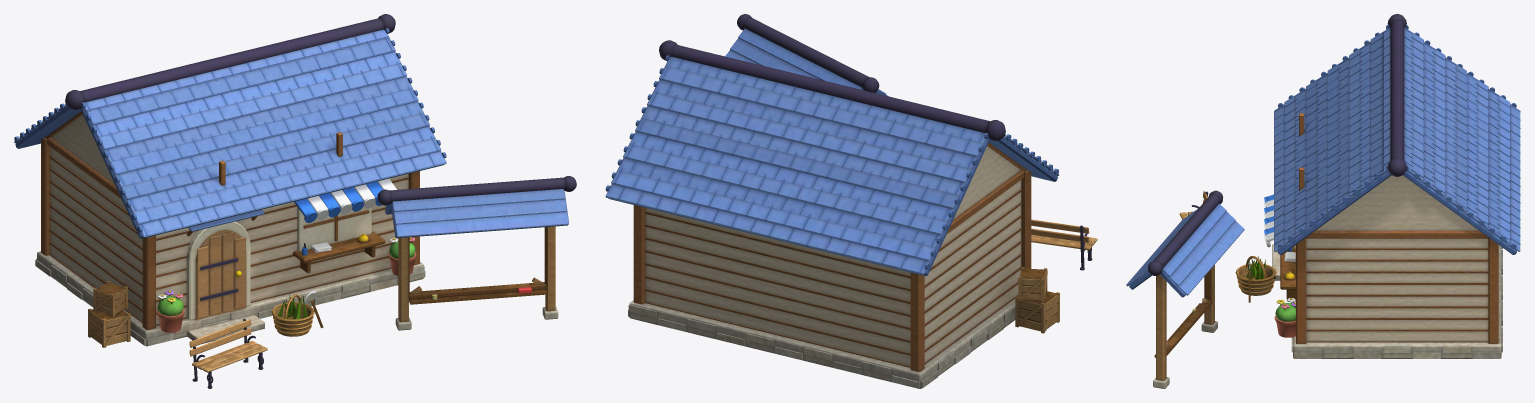
File: laborOffice.glb
3 views of the same model, side by side, from view 1: azimuth 30°, elevation 25°; view 2: azimuth 150°, elevation 25°; view 3: azimuth 270°, elevation 25° (orthographic). The views are drawn at different scales.
Parts seen in each view (by area): view 1: box; view 2: box; view 3: box.
Boxes of the visible parts, x1=… form: box: x1=14, y1=14, x2=576, y2=388; box: x1=605, y1=14, x2=1097, y2=388; box: x1=1126, y1=14, x2=1520, y2=388.
Bounding box in the file's own units: 13.3 × 7.21 × 12.29.
Materials: 1 (1 with a texture image).
